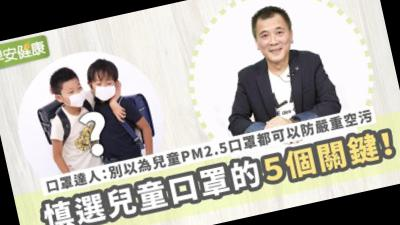with_mask: (90, 75, 119, 104), (61, 82, 89, 111)
without_mask: (254, 22, 296, 66)
